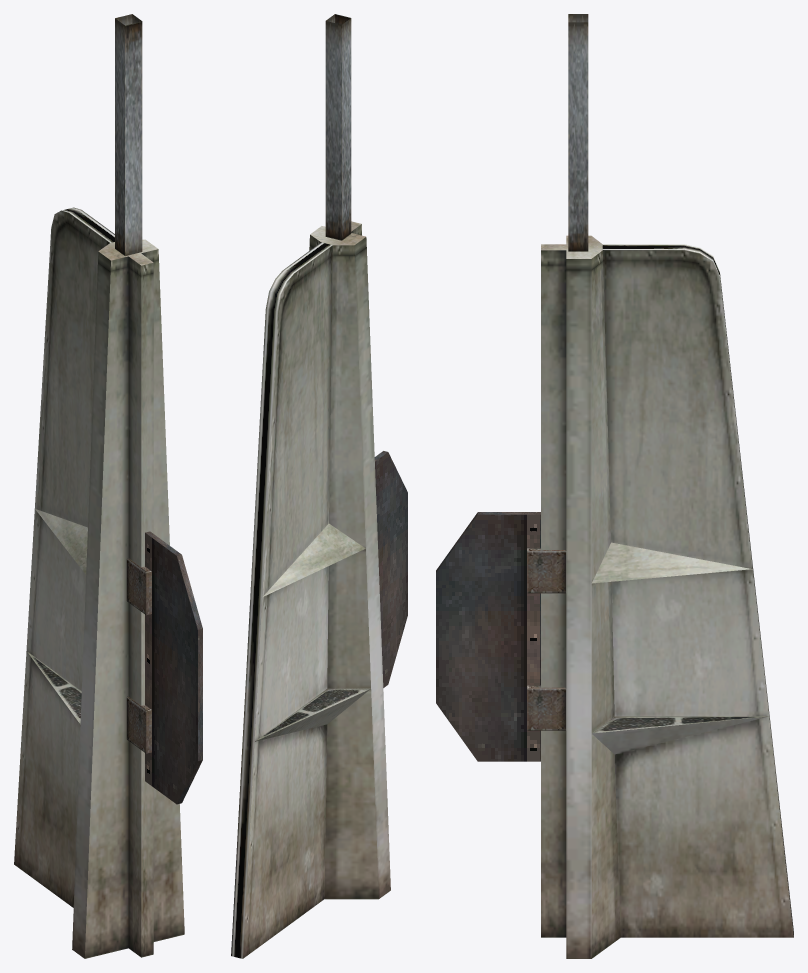
The model's file is gun_range_partition.fbx.
The picture shows the model from 3 angles, left to right: view 1: azimuth 30°, elevation 25°; view 2: azimuth 150°, elevation 25°; view 3: azimuth 270°, elevation 25°; orthographic projection. The views are drawn at different scales.
Visible parts, largest first — view 1: mesh_0, mesh_1; view 2: mesh_0, mesh_1; view 3: mesh_0, mesh_1.
Part boxes in pixels (bbox=[...]): mesh_0: bbox=[14, 14, 184, 958]; mesh_1: bbox=[145, 531, 202, 804]; mesh_0: bbox=[231, 14, 390, 958]; mesh_1: bbox=[374, 451, 407, 687]; mesh_0: bbox=[527, 14, 793, 958]; mesh_1: bbox=[436, 512, 540, 761].
Size of the model in its own units: 45.35 by 400 by 142.
Materials: 2 (2 with a texture image).
